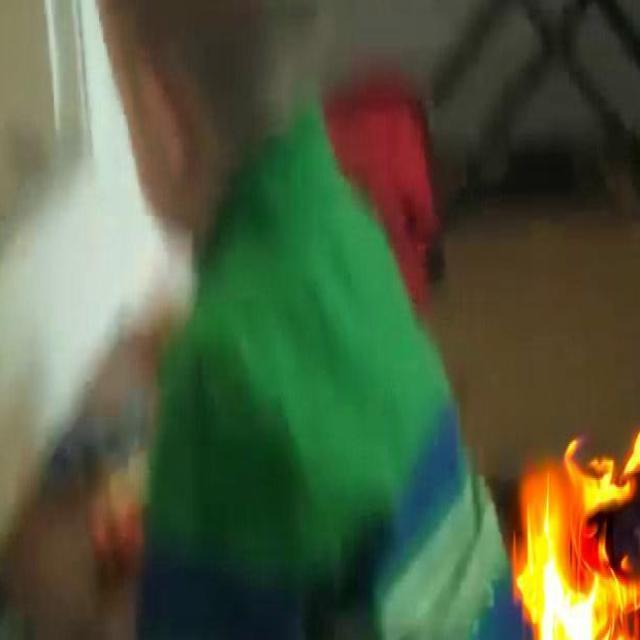smoke: (515, 431, 640, 640)
